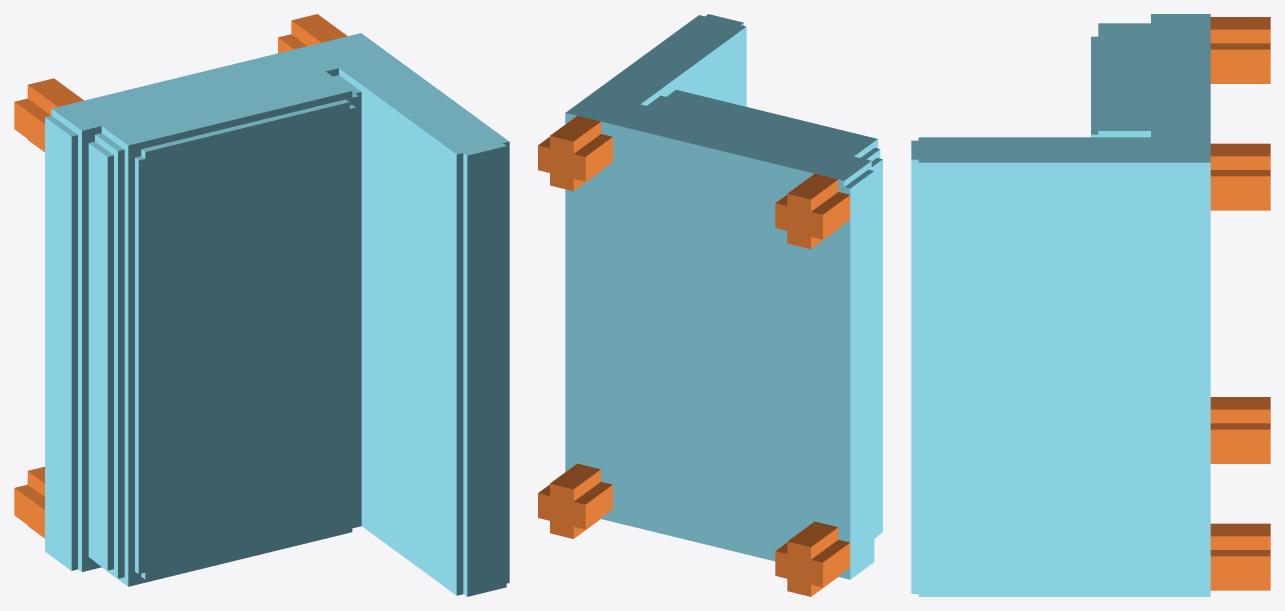
The model's file is pxl1.obj.obj.
The picture shows the model from 3 angles, left to right: view 1: azimuth 30°, elevation 25°; view 2: azimuth 150°, elevation 25°; view 3: azimuth 270°, elevation 25°; orthographic projection. The views are drawn at different scales.
Bounding box in the file's own units: 48 × 64 × 48.
